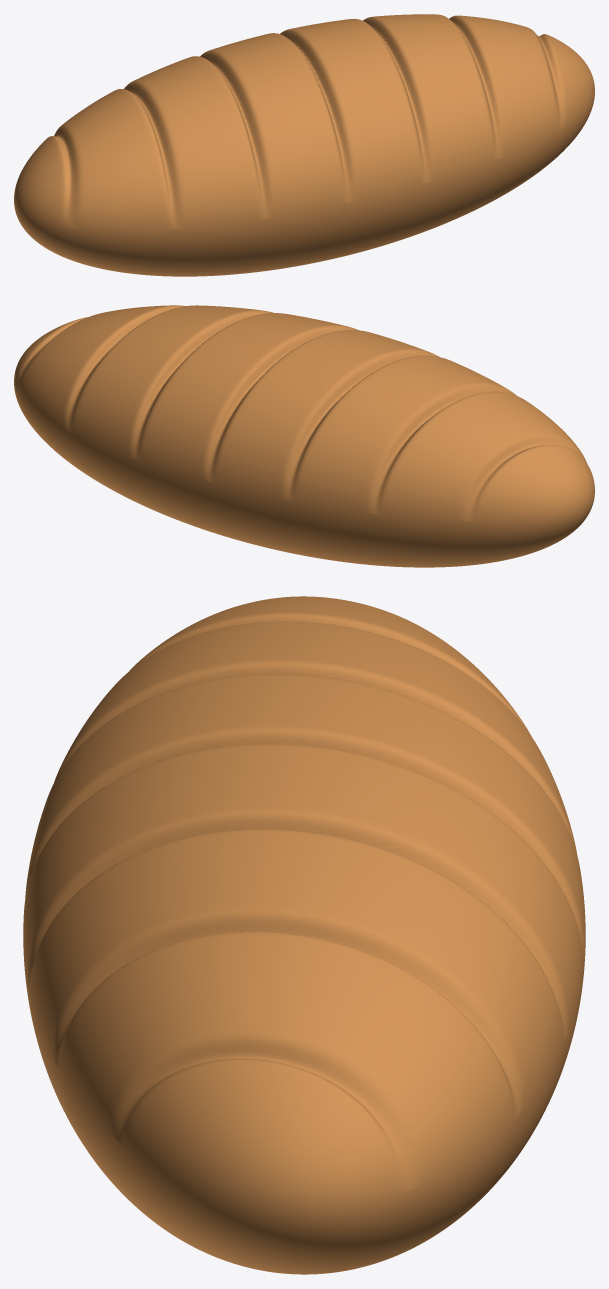
The model's file is scored_loaf.gltf.
3 renders of one model, top to bottom at view 1: azimuth 30°, elevation 25°; view 2: azimuth 150°, elevation 25°; view 3: azimuth 270°, elevation 25°, orthographic. The views are drawn at different scales.
Parts seen in each view (by area): view 1: Loaf section 5, Loaf section 6, Loaf section 4, Loaf section 7, Loaf section 3, Loaf section 8, Loaf section 2, Loaf section 9, Loaf section 1; view 2: Loaf section 5, Loaf section 6, Loaf section 4, Loaf section 7, Loaf section 3, Loaf section 8, Loaf section 2, Loaf section 9, Loaf section 1; view 3: Loaf section 7, Loaf section 8, Loaf section 6, Loaf section 9, Loaf section 5, Loaf section 4, Loaf section 10, Loaf section 3.
Part boxes in pixels (<box>): Loaf section 5: <box>178,34,373,272</box>; Loaf section 6: <box>267,18,457,255</box>; Loaf section 4: <box>102,60,283,276</box>; Loaf section 7: <box>363,14,526,227</box>; Loaf section 3: <box>44,95,195,276</box>; Loaf section 8: <box>449,15,573,190</box>; Loaf section 2: <box>16,136,117,266</box>; Loaf section 9: <box>521,25,594,147</box>; Loaf section 1: <box>14,176,57,245</box>; Loaf section 5: <box>235,325,435,563</box>; Loaf section 6: <box>151,309,341,546</box>; Loaf section 4: <box>325,354,508,567</box>; Loaf section 7: <box>82,305,248,518</box>; Loaf section 3: <box>413,388,563,567</box>; Loaf section 8: <box>35,305,162,481</box>; Loaf section 2: <box>491,426,591,557</box>; Loaf section 9: <box>14,317,87,438</box>; Loaf section 1: <box>551,467,594,536</box>; Loaf section 7: <box>36,831,572,1172</box>; Loaf section 8: <box>76,935,532,1265</box>; Loaf section 6: <box>23,743,585,1056</box>; Loaf section 9: <box>138,1040,470,1274</box>; Loaf section 5: <box>23,661,585,926</box>; Loaf section 4: <box>47,613,561,798</box>; Loaf section 10: <box>216,1134,392,1258</box>; Loaf section 3: <box>122,596,494,685</box>.
Bounding box in the file's own units: 5 × 1.68 × 2.16.
